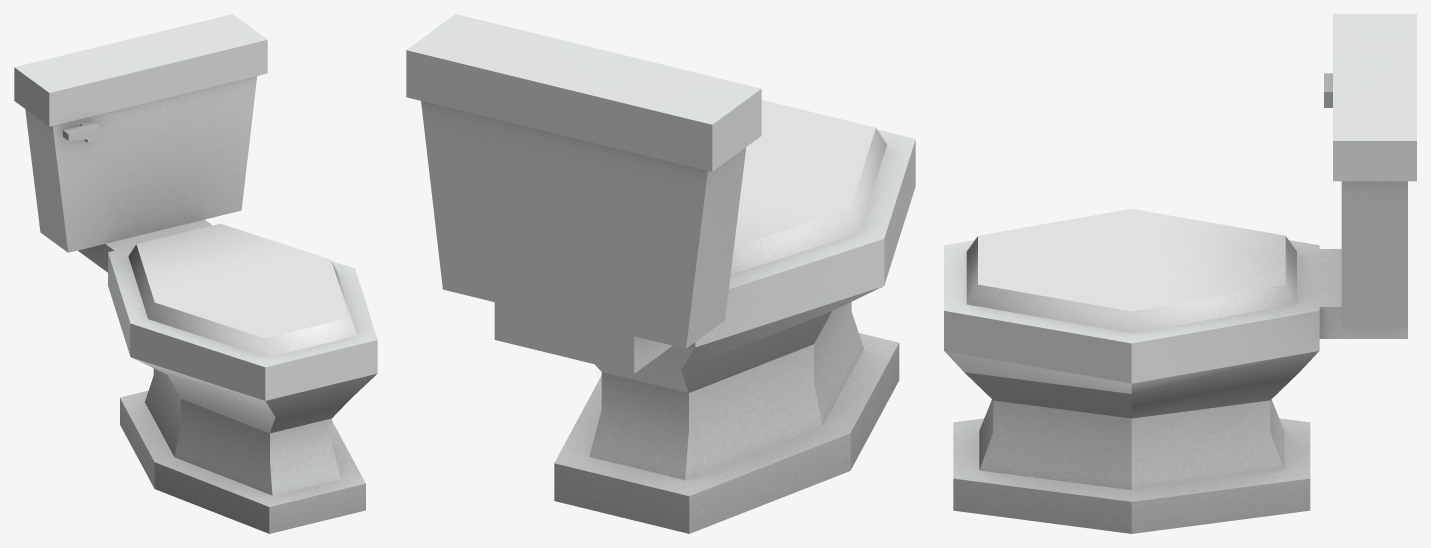
File: toilet.glb
3 views of the same model, side by side, from view 1: azimuth 30°, elevation 25°; view 2: azimuth 150°, elevation 25°; view 3: azimuth 270°, elevation 25° (orthographic). The views are drawn at different scales.
Parts seen in each view (by area): view 1: toilet; view 2: toilet; view 3: toilet.
Boxes of the visible parts, x1=… form: toilet: x1=14, y1=14, x2=377, y2=533; toilet: x1=406, y1=14, x2=915, y2=533; toilet: x1=944, y1=14, x2=1416, y2=533.
Bounding box in the file's own units: 0.6157 × 0.8884 × 0.94.
4 materials, 4 textured.
